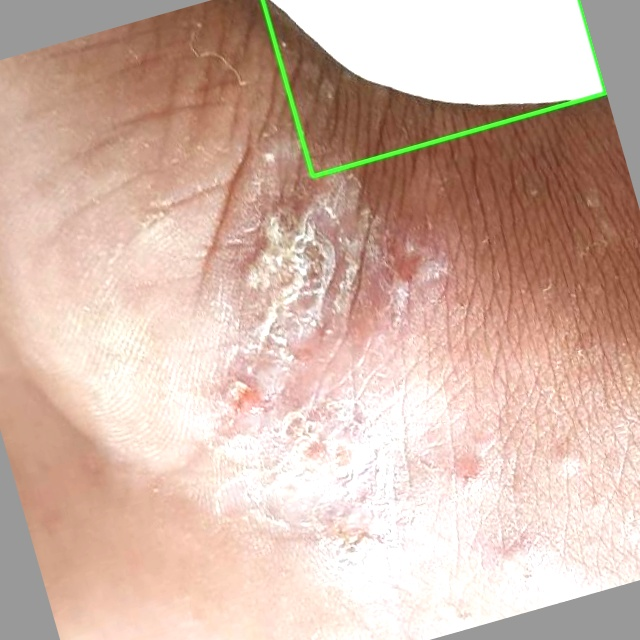Scabies: (262, 0, 605, 176)
